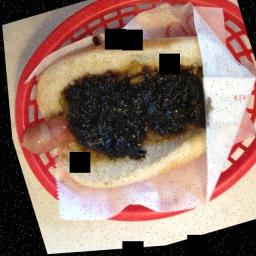hotdog: (14, 112, 76, 157)
